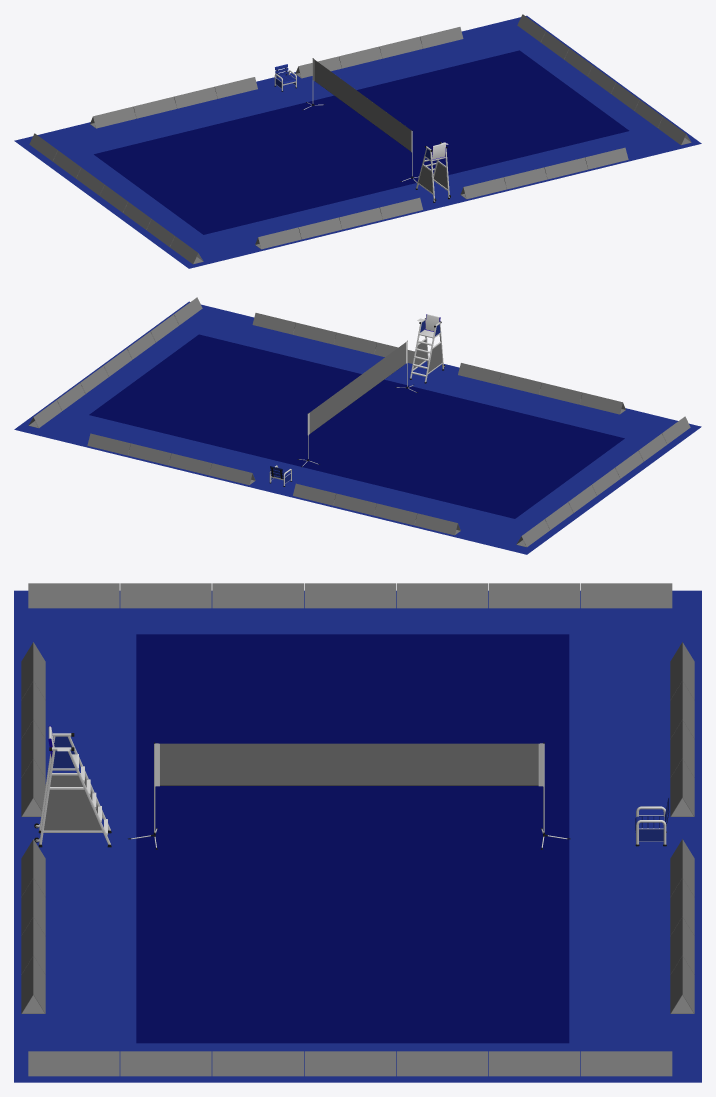
The model's file is uploads_files_183924_Badminton+court+2011.FBX(1).fbx.
The picture shows the model from 3 angles, top to bottom: view 1: azimuth 30°, elevation 25°; view 2: azimuth 150°, elevation 25°; view 3: azimuth 270°, elevation 25°; orthographic projection. The views are drawn at different scales.
Parts seen in each view (by area): view 1: Plane007, Object001, Plane003, Box058, Box062, Box055, Box060, Box061, Box065, Box056, Box057, Box052 (+9 smaller); view 2: Plane007, Object001, Plane003, Box062, Box058, Box067, Box060, Box061, Box063, Box064, Box065, Box057 (+8 smaller); view 3: Plane007, Object001, Plane003, Box073, Box082, Box068, Box069, Box070, Box076, Box077, Box078, Box071 (+23 smaller).
Boxes of the visible parts, box(x1,y1,x2,y2) form: Plane007: box(94, 50, 629, 234); Object001: box(14, 15, 701, 268); Plane003: box(314, 61, 410, 151); Box058: box(255, 227, 301, 249); Box062: box(90, 106, 136, 128); Box055: box(460, 177, 506, 199); Box060: box(133, 96, 176, 118); Box061: box(174, 86, 217, 108); Box065: box(379, 36, 422, 58); Box056: box(298, 217, 341, 239); Box057: box(339, 207, 382, 229); Box052: box(585, 147, 628, 169); Plane007: box(89, 334, 624, 518); Object001: box(14, 301, 701, 554); Plane003: box(309, 343, 405, 433); Box062: box(414, 513, 460, 535); Box058: box(579, 392, 625, 414); Box067: box(209, 463, 255, 485); Box060: box(374, 503, 417, 525); Box061: box(333, 493, 376, 515); Box063: box(293, 483, 336, 505); Box064: box(87, 433, 130, 455); Box065: box(128, 443, 171, 465); Box057: box(498, 372, 541, 394); Plane007: box(136, 634, 569, 1043); Object001: box(14, 590, 701, 1082); Plane003: box(160, 745, 538, 785); Box073: box(580, 583, 672, 608); Box082: box(580, 1051, 672, 1076); Box068: box(212, 583, 303, 608); Box069: box(120, 583, 211, 608); Box070: box(28, 583, 119, 608); Box076: box(212, 1051, 303, 1076); Box077: box(120, 1051, 211, 1076); Box078: box(28, 1051, 119, 1076); Box071: box(304, 583, 395, 608).
Bounding box in the file's own units: 51.5 × 5.29 × 30.43.
